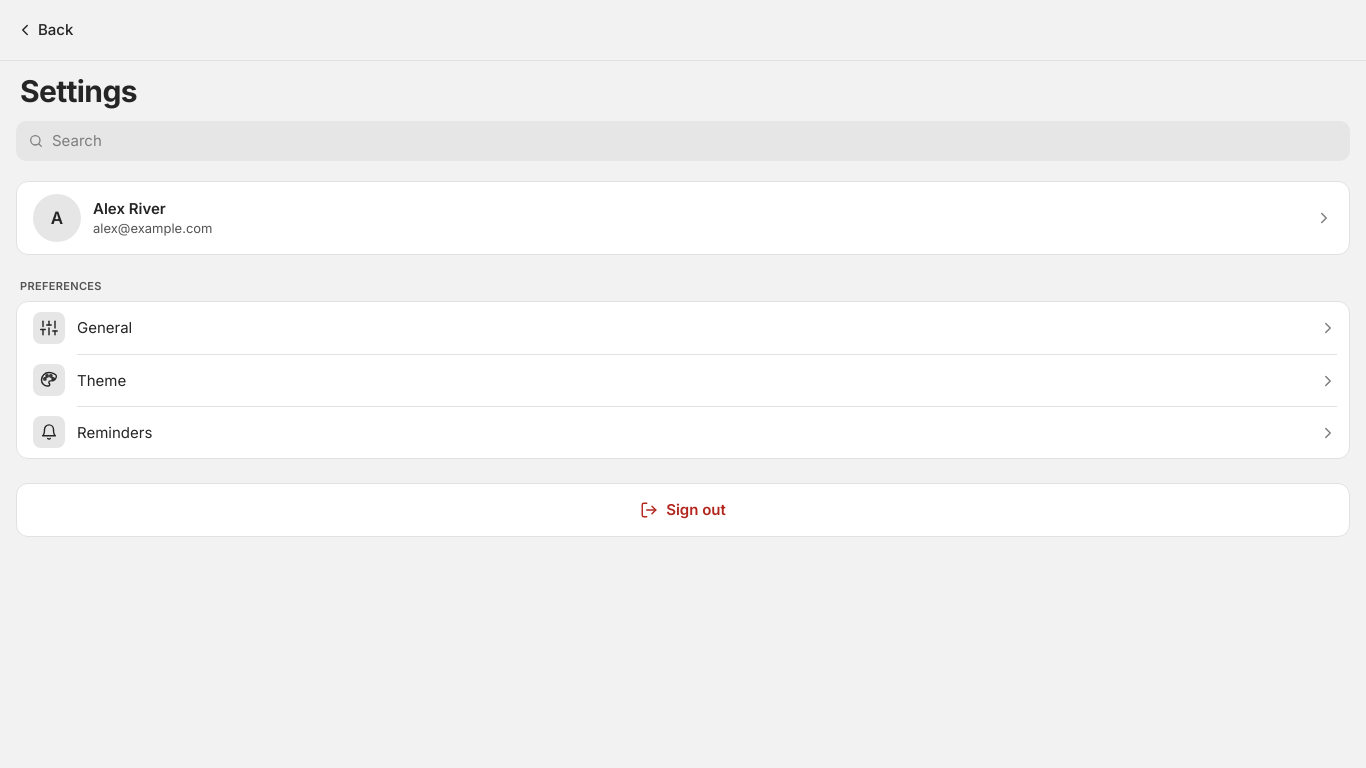
Test: Settings on phones (Part D) › profile card shows name and email and opens Account
The width and height of the screenshot is (1366, 768).
Check: the text "A" is shown, box [33, 194, 81, 242]
Check: the text "Alex River" is shown, box [93, 199, 166, 218]
Step 1. Click the button "A Alex River alex@example.com" → (57, 218), box [16, 181, 1350, 255]
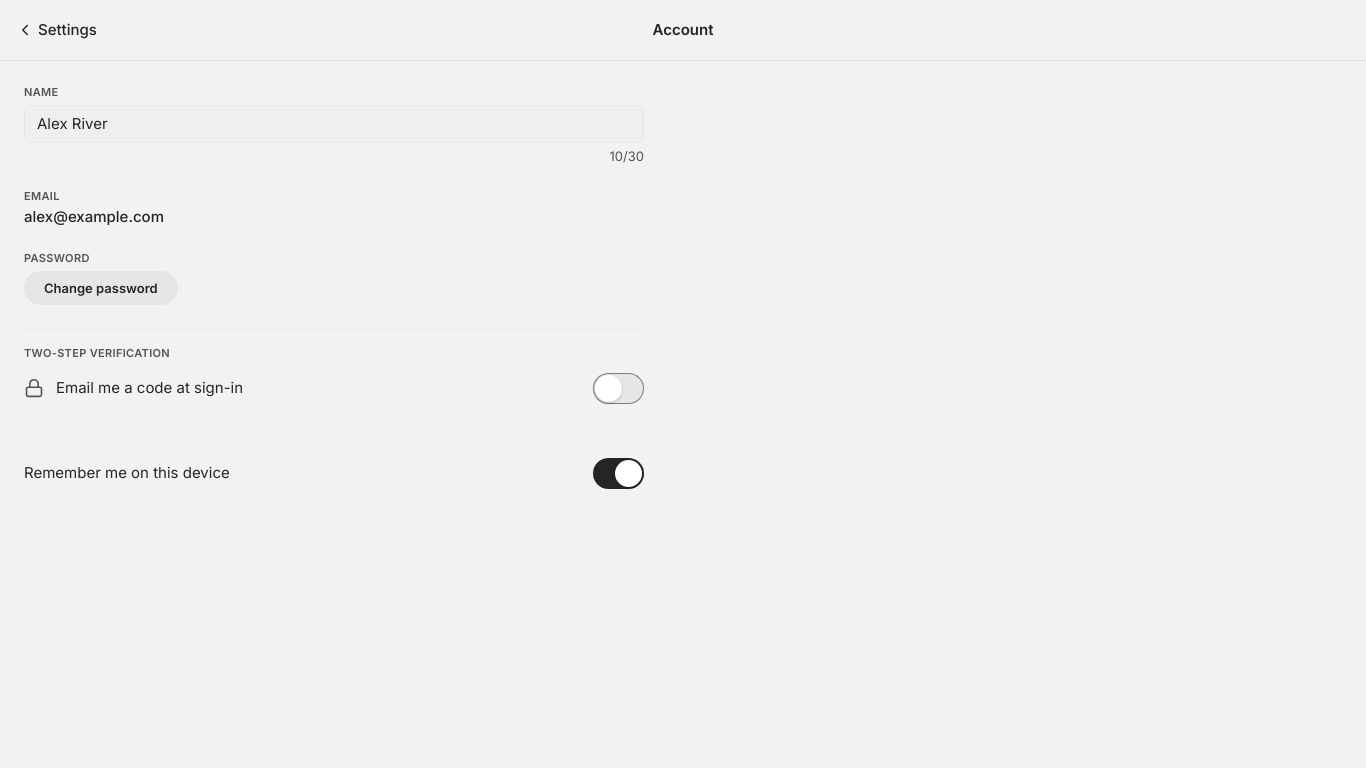
Check: the heading "Account" is shown, box [652, 20, 714, 39]
